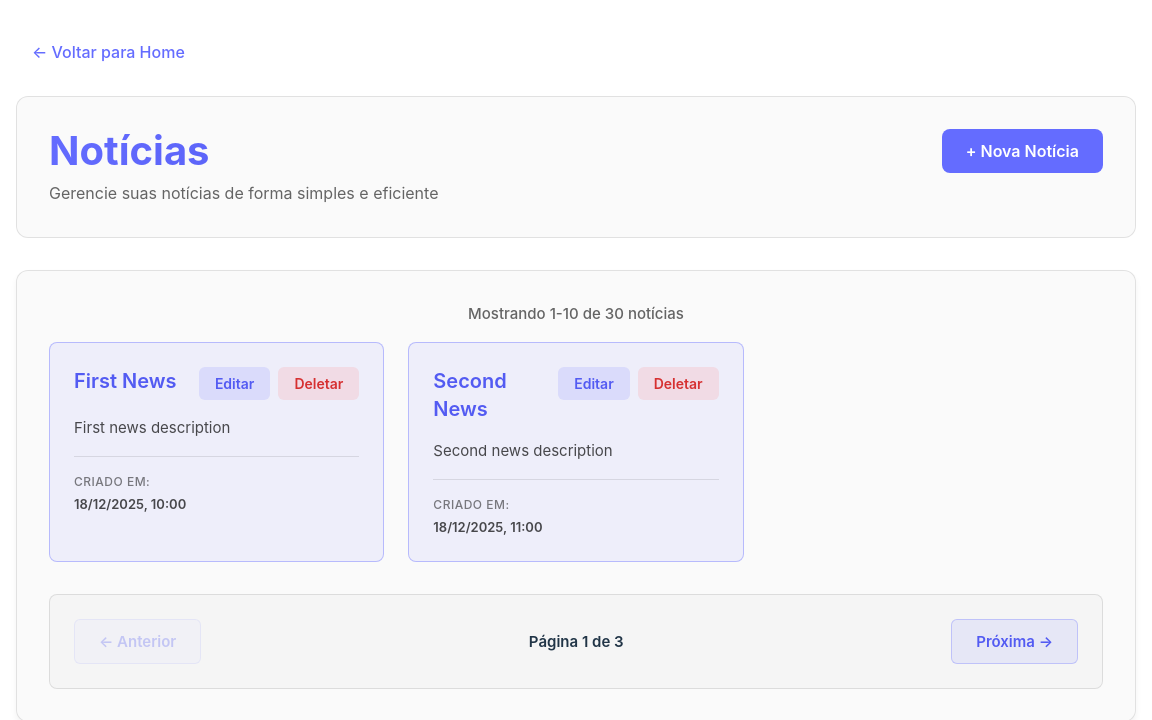
Test: News Page › disables next button on last page
Expected: the text "Página 1 de 3" is shown, 529,632 -> 624,651
Click the button with aria-label "próxima página" at (1015, 642), box 951,619 -> 1078,664
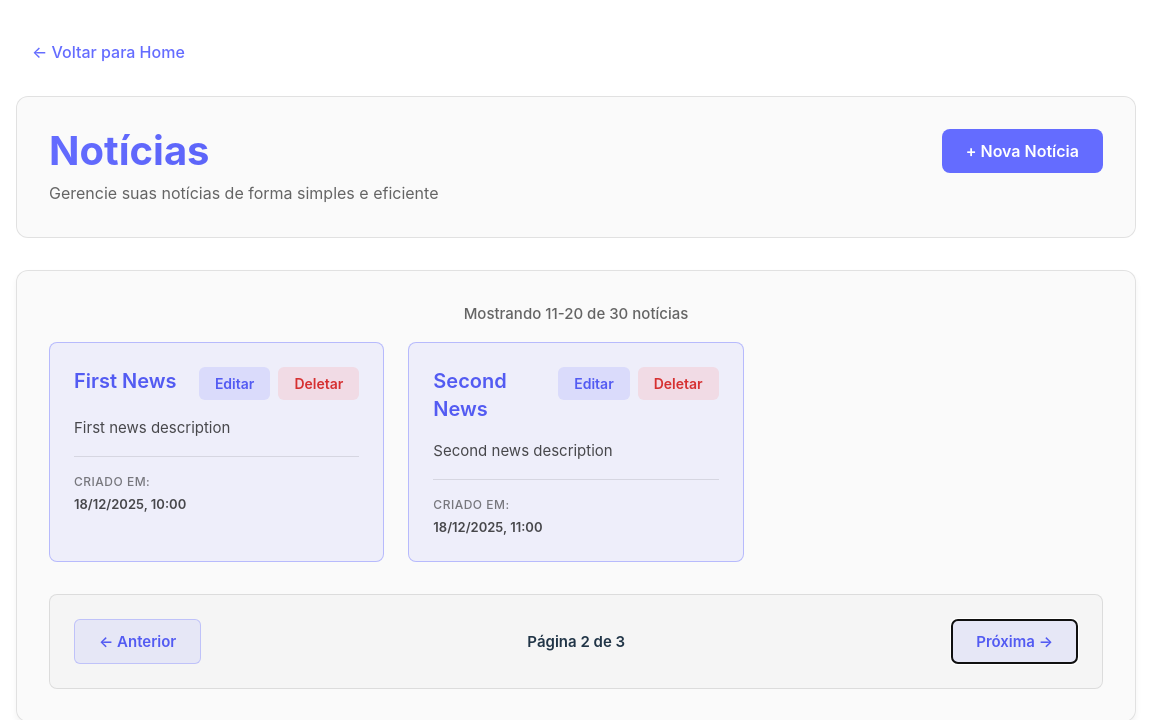
Click the button with aria-label "próxima página" at (1015, 642), box 951,619 -> 1078,664
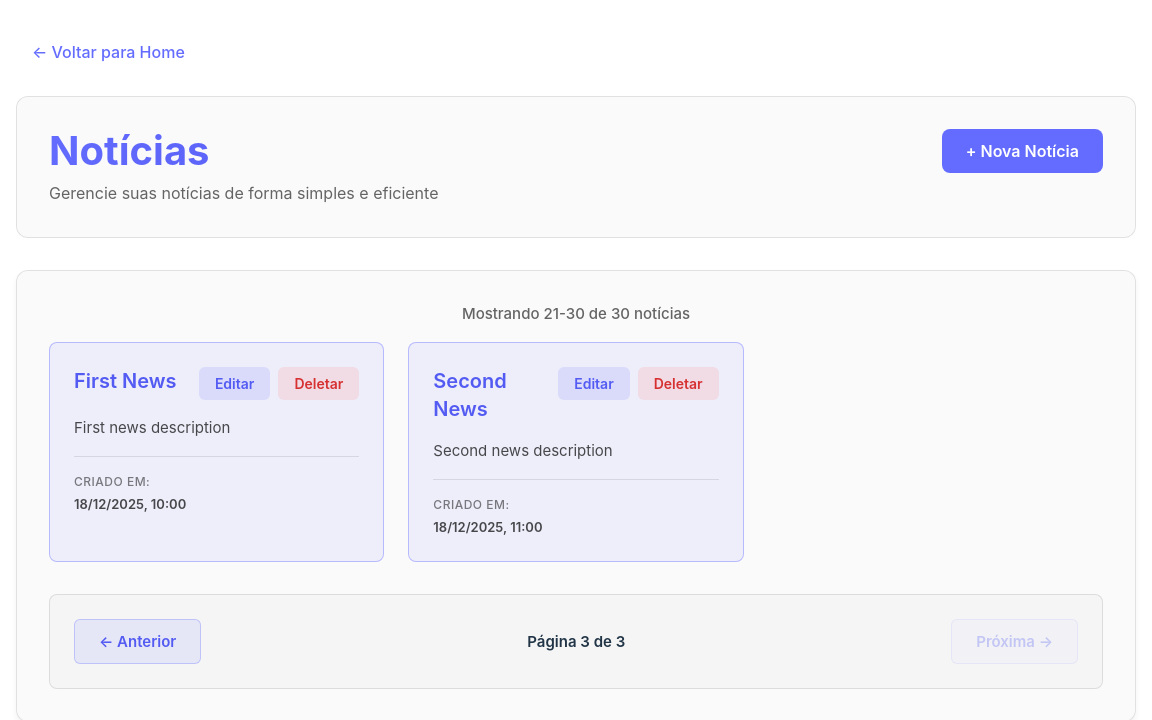
Now the button with aria-label "próxima página" is disabled, box 951,619 -> 1078,664
